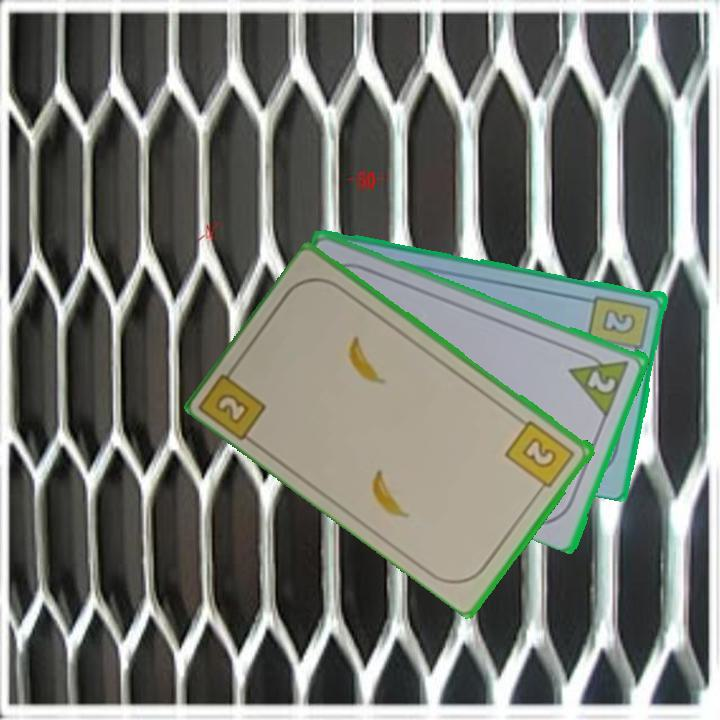2b: (502, 416, 578, 497), (199, 358, 270, 443), (586, 291, 654, 361)
2p: (584, 367, 619, 396)
